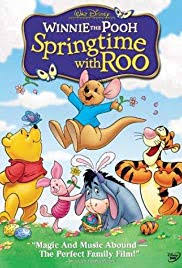Winnie: (3, 123, 47, 189)
